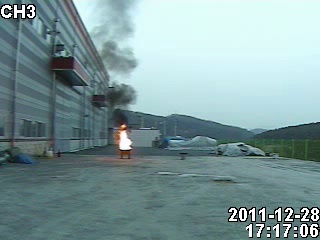fire: (114, 130, 132, 152)
smoke: (95, 2, 144, 117)
